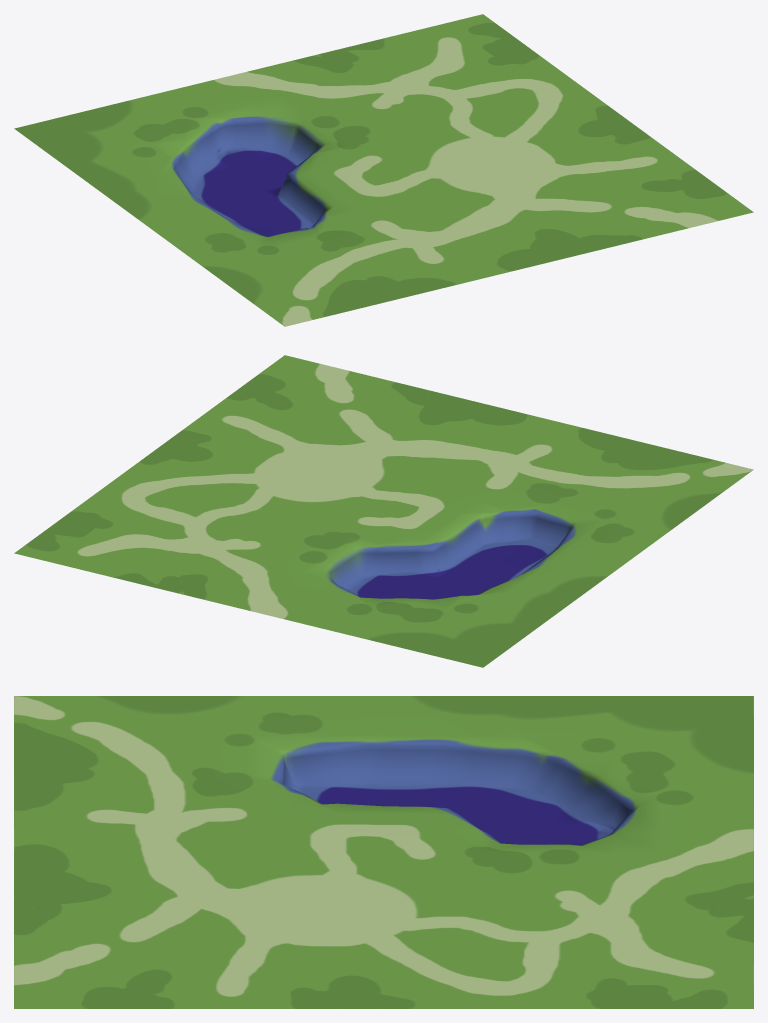
Rendered from floor.fbx.
The picture shows the model from 3 angles, top to bottom: view 1: azimuth 30°, elevation 25°; view 2: azimuth 150°, elevation 25°; view 3: azimuth 270°, elevation 25°; orthographic projection. The views are drawn at different scales.
Visible parts, largest first — view 1: floor; view 2: floor; view 3: floor.
Part boxes in pixels (<box>): floor: <box>14,14,753,326</box>; floor: <box>14,355,753,667</box>; floor: <box>14,696,753,1008</box>.
Bounding box in the file's own units: 10000 × 458 × 10000.
